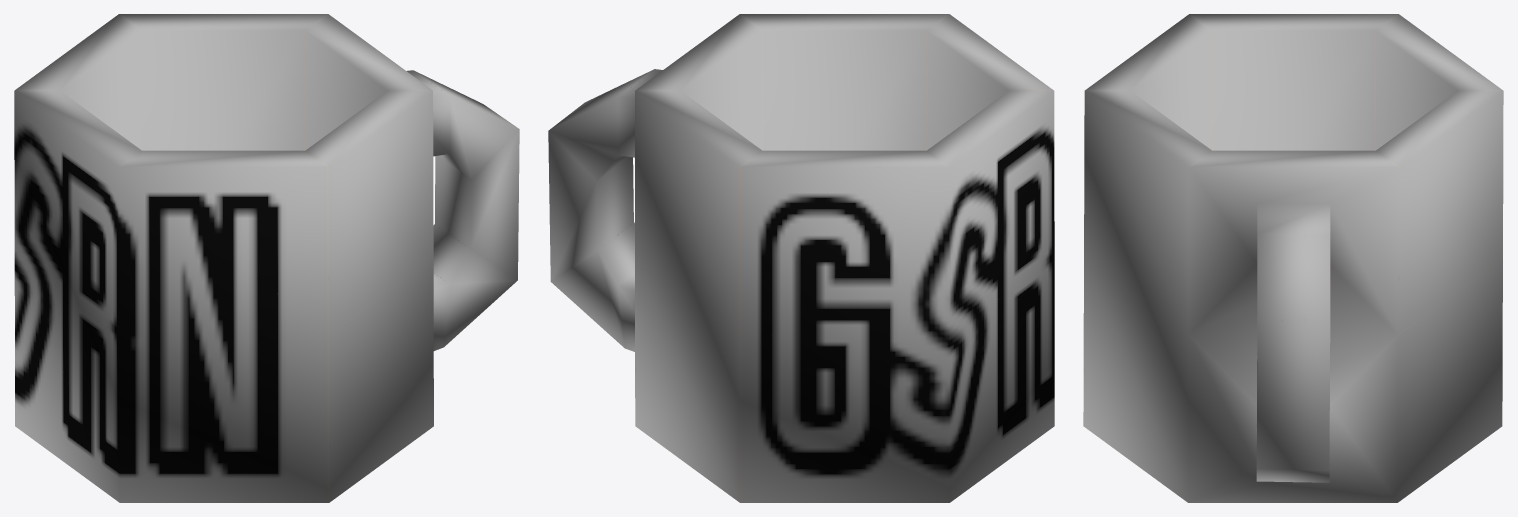
File: coffee_mug.fbx
The picture shows the model from 3 angles, left to right: view 1: azimuth 30°, elevation 25°; view 2: azimuth 150°, elevation 25°; view 3: azimuth 270°, elevation 25°; orthographic projection.
Visible parts, largest first — view 1: coffee_mug; view 2: coffee_mug; view 3: coffee_mug.
Part boxes in pixels (bbox=[...]): coffee_mug: bbox=[14, 14, 519, 502]; coffee_mug: bbox=[548, 14, 1054, 502]; coffee_mug: bbox=[1083, 14, 1503, 502].
Size of the model in its own units: 23.98 by 17.67 by 20.05.
Materials: 1 (1 with a texture image).
